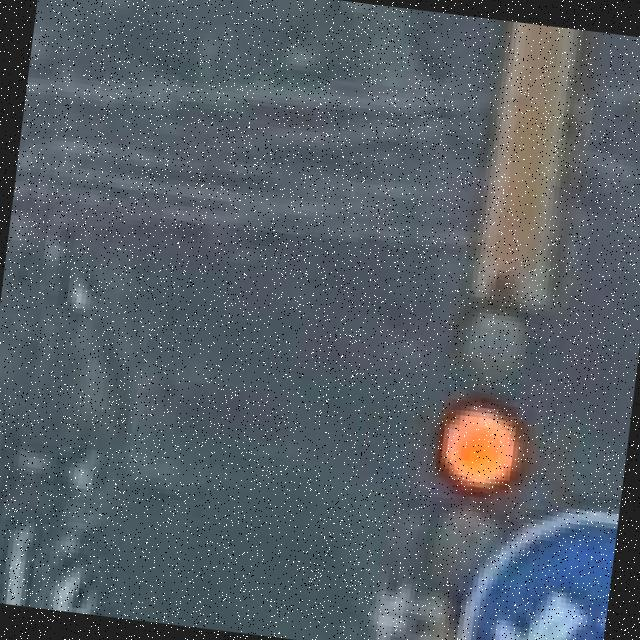Zolte swiatlo: (420, 294, 540, 596)
